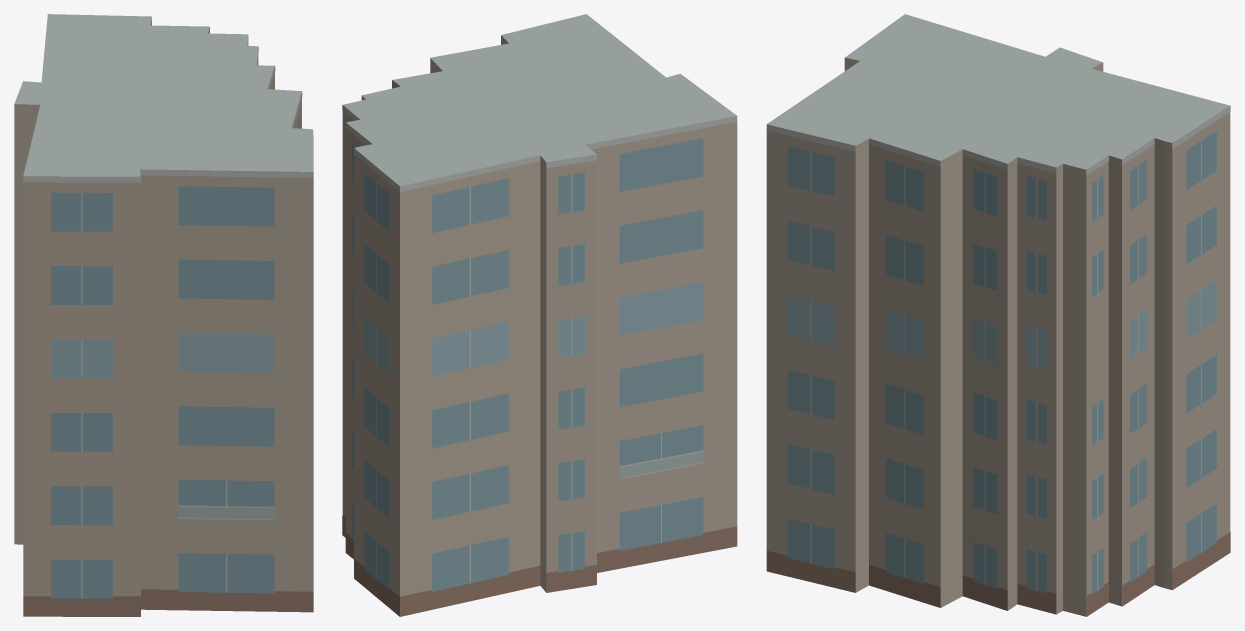
Rendered from survey-upis-32641113.glb.
3 renders of one model, left to right at view 1: azimuth 30°, elevation 25°; view 2: azimuth 150°, elevation 25°; view 3: azimuth 270°, elevation 25°, orthographic. The views are drawn at different scales.
Visible parts, largest first — view 1: survey-upis-32641113.tmp; view 2: survey-upis-32641113.tmp; view 3: survey-upis-32641113.tmp.
Boxes of the visible parts, box(x1,y1,x2,y2) form: survey-upis-32641113.tmp: box(14, 14, 313, 616); survey-upis-32641113.tmp: box(342, 14, 737, 616); survey-upis-32641113.tmp: box(766, 14, 1230, 616).
Size of the model in its own units: 13.31 by 17.8 by 16.74.
